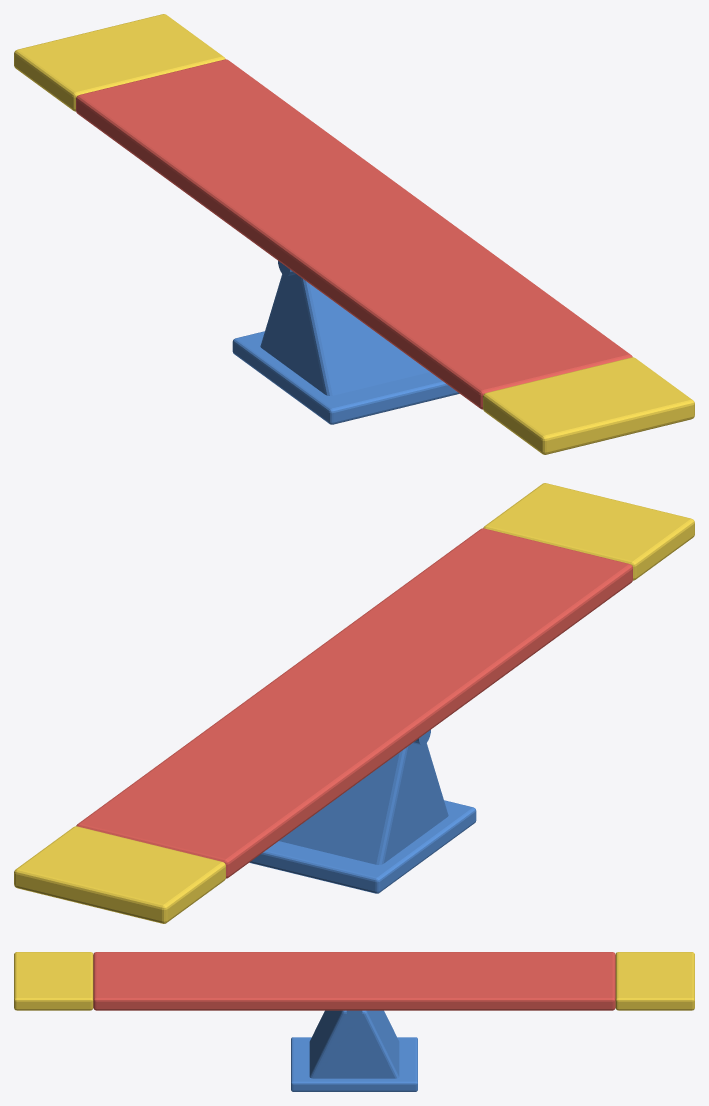
Rendered from Agility_Seesaw_Split.fbx.
The picture shows the model from 3 angles, top to bottom: view 1: azimuth 30°, elevation 25°; view 2: azimuth 150°, elevation 25°; view 3: azimuth 270°, elevation 25°; orthographic projection. The views are drawn at different scales.
Parts seen in each view (by area): view 1: Board, Base; view 2: Board, Base; view 3: Board, Base.
Part boxes in pixels (bbox=[...]): Board: bbox=[14, 14, 694, 454]; Base: bbox=[232, 261, 459, 424]; Board: bbox=[14, 483, 694, 923]; Base: bbox=[249, 730, 476, 893]; Board: bbox=[14, 952, 694, 1010]; Base: bbox=[291, 1010, 417, 1091].
Bounding box in the file's own units: 50 × 46 × 300.
